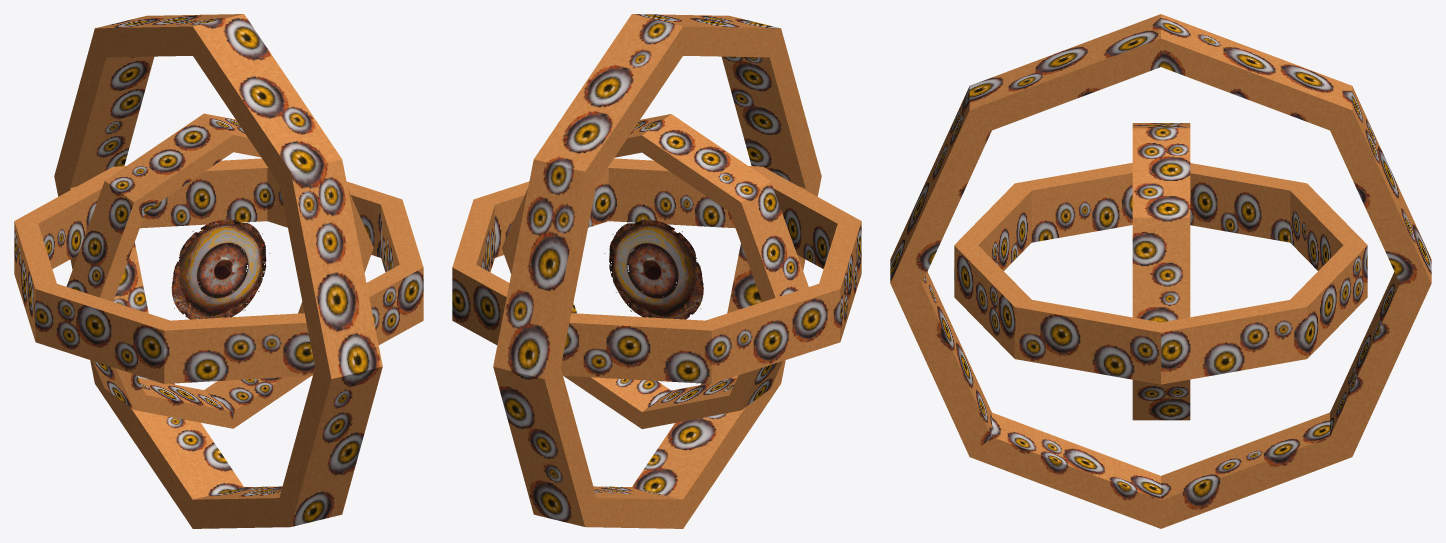
The model's file is ophanim_000001.obj.
3 renders of one model, left to right at view 1: azimuth 30°, elevation 25°; view 2: azimuth 150°, elevation 25°; view 3: azimuth 270°, elevation 25°, orthographic. The views are drawn at different scales.
Visible parts, largest first — view 1: Ring3, Ring2, Ring1, Eye; view 2: Ring3, Ring2, Ring1, Eye; view 3: Ring3, Ring2, Ring1.
Part boxes in pixels (bbox=[...]): Ring3: bbox=[54, 14, 382, 528]; Ring2: bbox=[14, 158, 423, 383]; Ring1: bbox=[66, 113, 373, 428]; Eye: bbox=[171, 219, 270, 319]; Ring3: bbox=[493, 14, 821, 528]; Ring2: bbox=[452, 158, 861, 383]; Ring1: bbox=[501, 114, 808, 428]; Eye: bbox=[604, 219, 703, 319]; Ring3: bbox=[890, 14, 1431, 528]; Ring2: bbox=[954, 163, 1367, 384]; Ring1: bbox=[1132, 123, 1190, 420].
Bounding box in the file's own units: 0.265 × 0.3468 × 0.3468.
2 materials, 2 textured.
